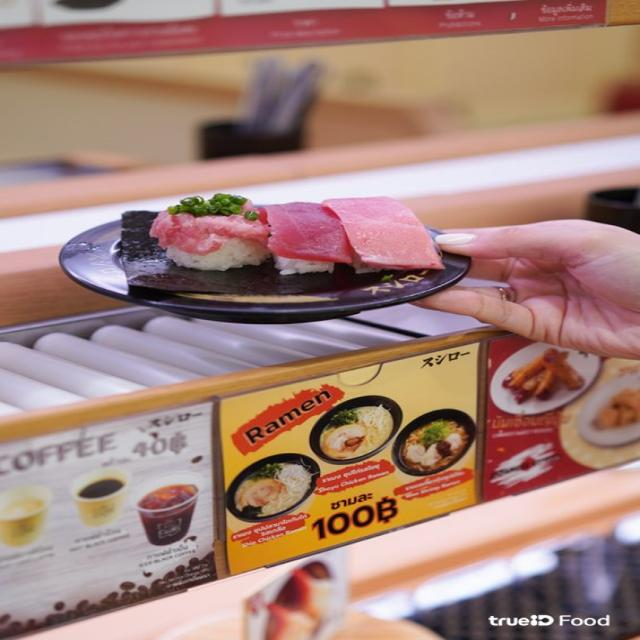janred: (77, 212, 476, 336)
